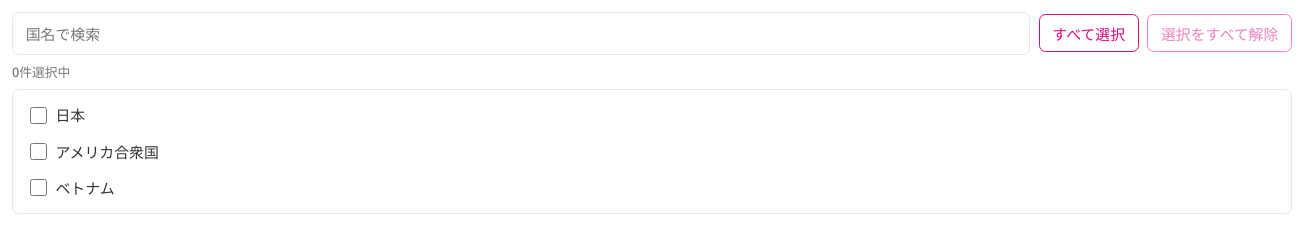
Test: CountryTargetingSelect › 検索語に一致する候補が0件のとき、該当なしメッセージを表示する
The image size is (1304, 231).
Type "存在しない国名" into the field with placeholder "国名で検索" at (521, 33), box [12, 12, 1030, 54]
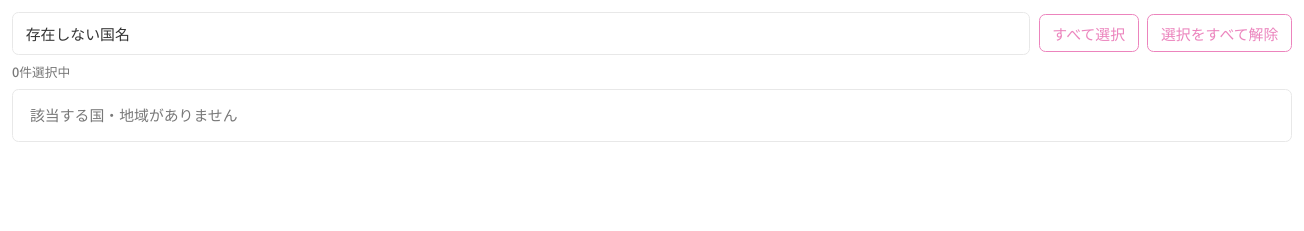
Result: the text "該当する国・地域がありません" is shown at [30, 104, 238, 125]
